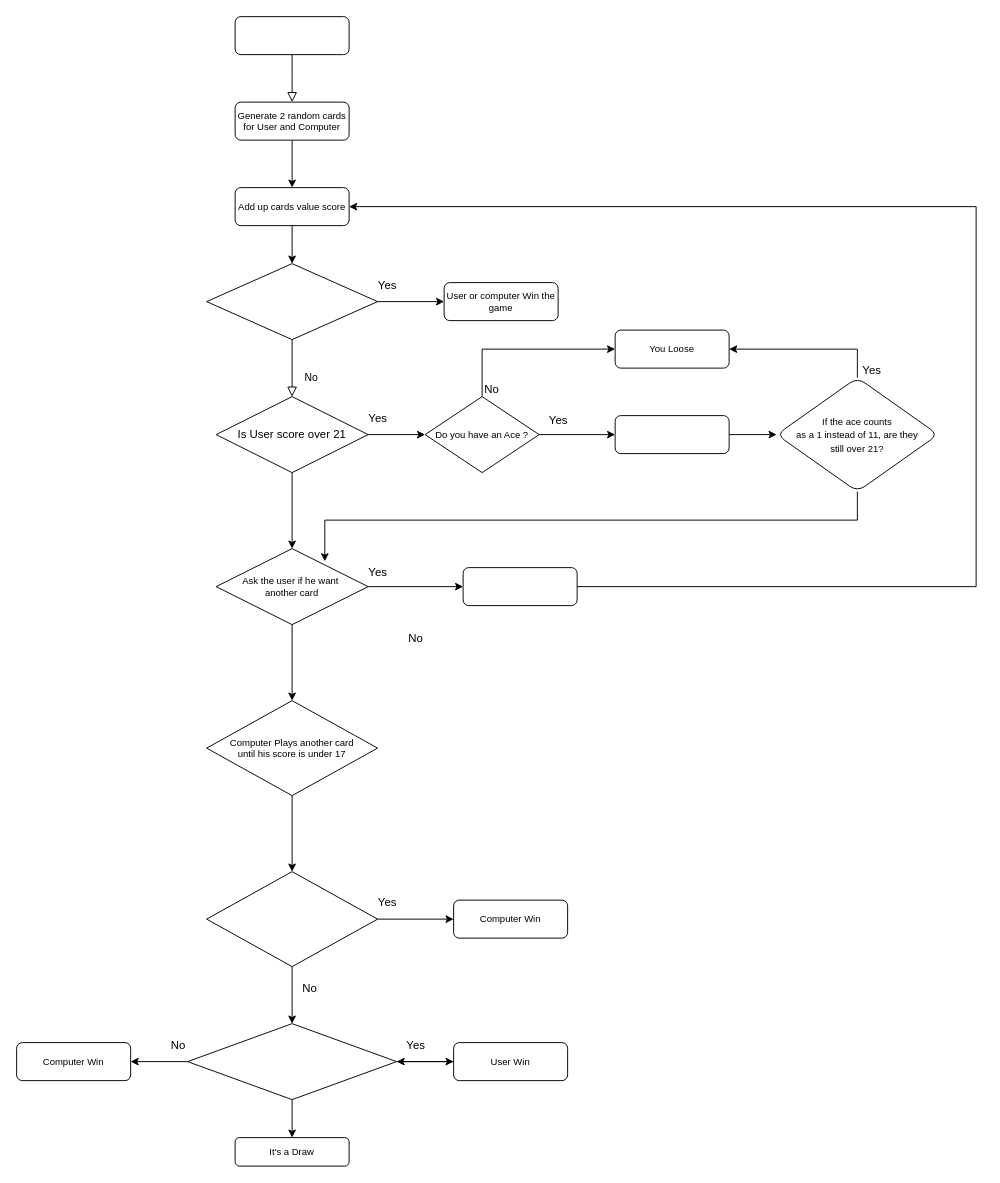
This 1000x1183 diagram has some shape labels left out. Here are the shapes that lost their labels. From the top down, the box of each, then its label:
(234, 16, 349, 55): START
(206, 263, 378, 340): User or computer have a Black Jack ( ace + 10 ) ?
(614, 415, 729, 454): count it as 1 point
(462, 567, 577, 606): Draw another card
(206, 871, 378, 967): Has computer go over 21 ?
(187, 1023, 397, 1100): Compare user score with computer score to see if user score is Higher
